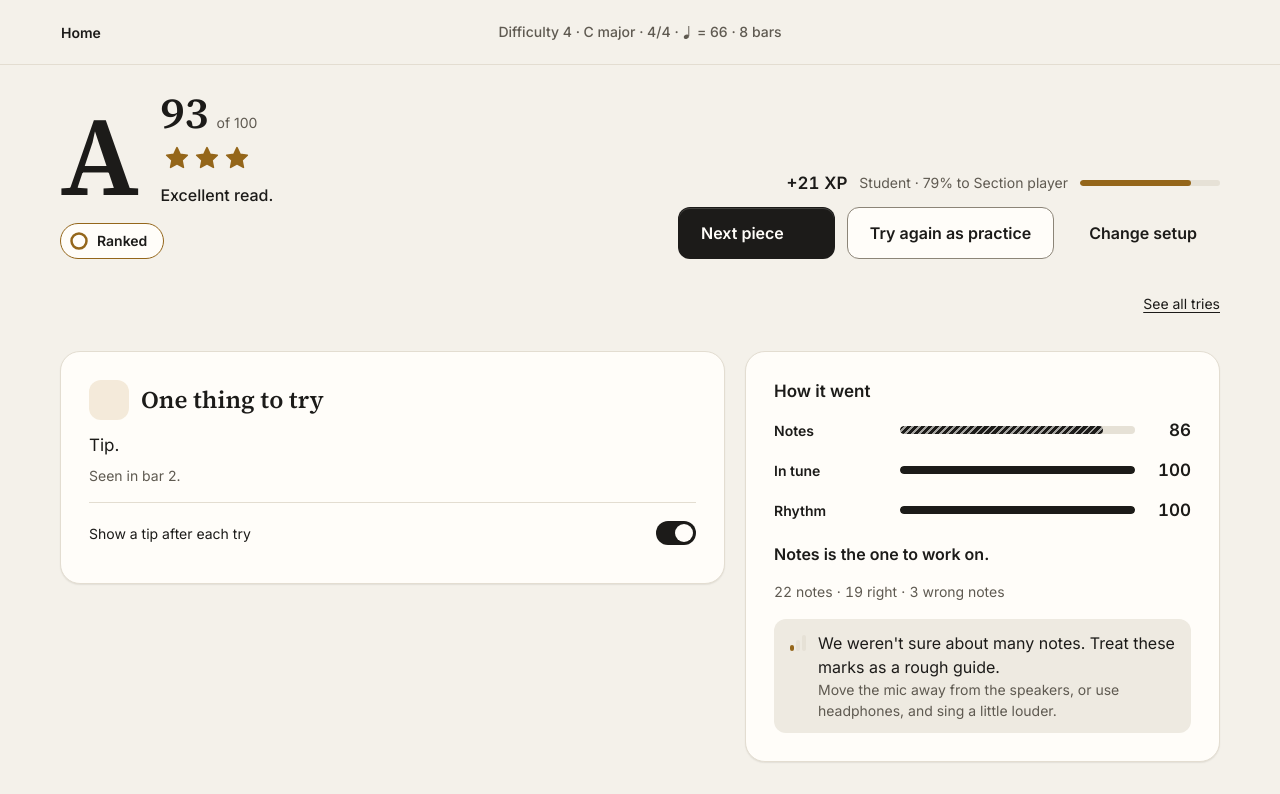
Test: tips off from results (designer's note 17) › turning the switch off removes the card and shows a toast with Undo, which restores it
The image size is (1280, 794).
Click the switch labelled "Show a tip after each try" at (676, 533), box [89, 521, 696, 545]
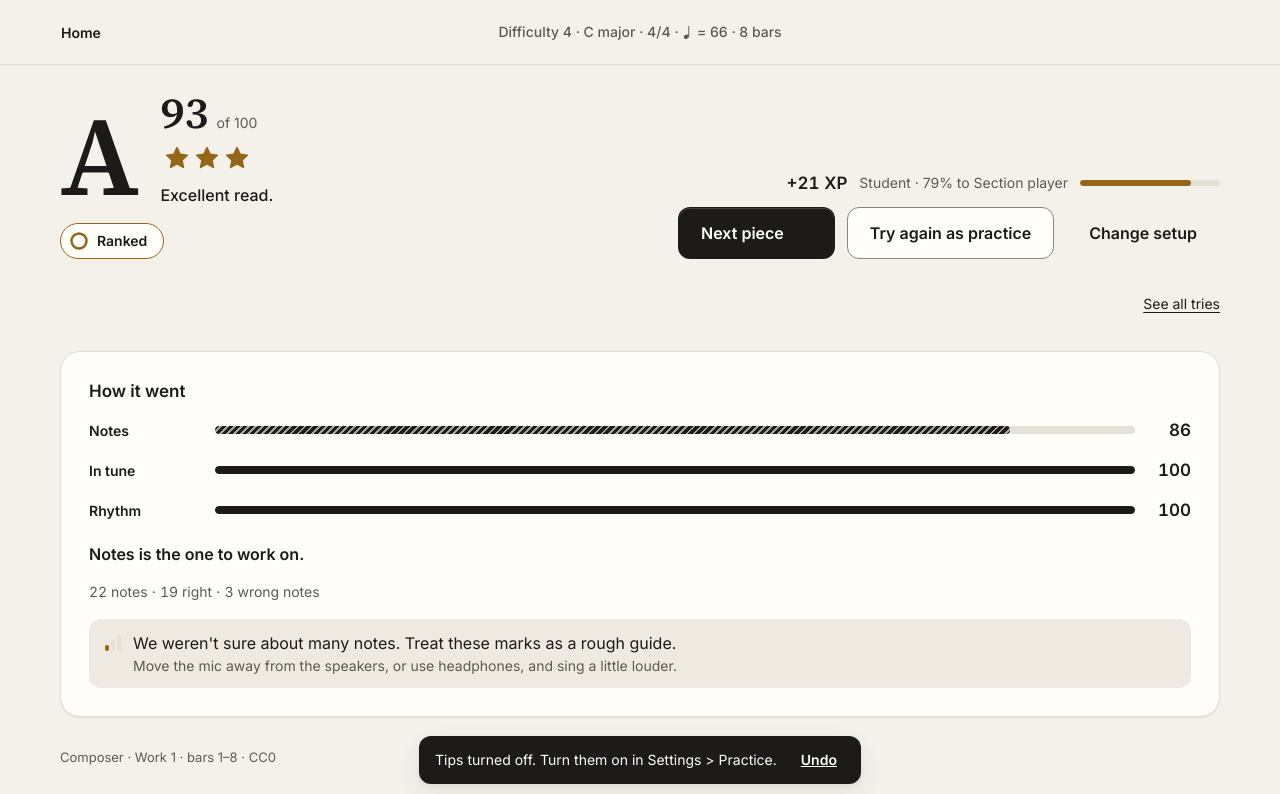
Expected: the element with test id "res-tips" is gone
Expected: the text "Tips turned off. Turn them on in Settings > Practice." is shown, [435, 750, 777, 770]
Click the button "Undo" at (819, 760), box [793, 748, 845, 772]
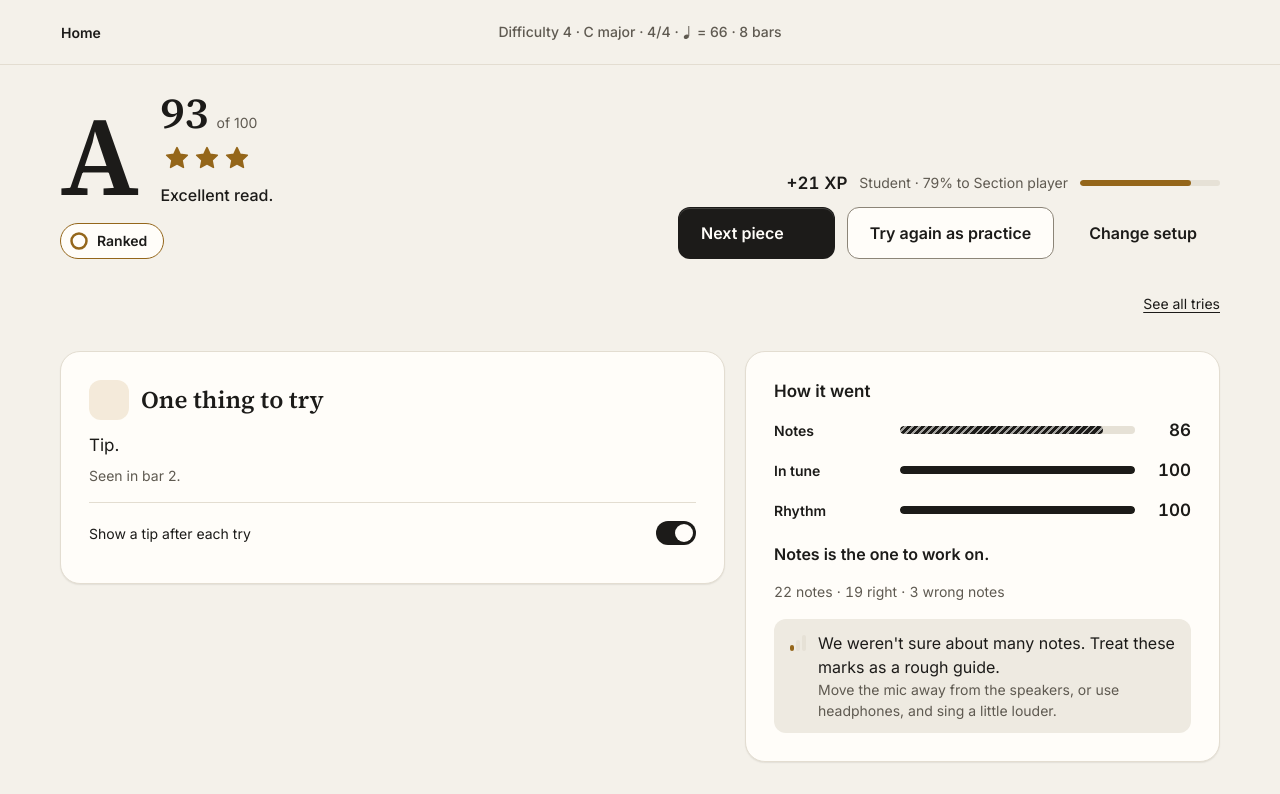
Expected: the element with test id "res-tips" is shown, [60, 350, 725, 584]
